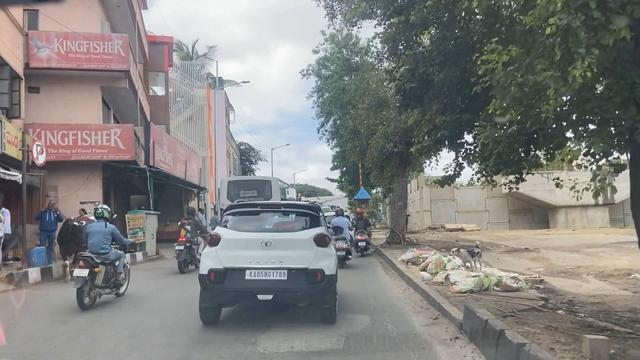LMV: (206, 211, 336, 306), (77, 207, 117, 304)
RoadDamages: (254, 326, 339, 356)
